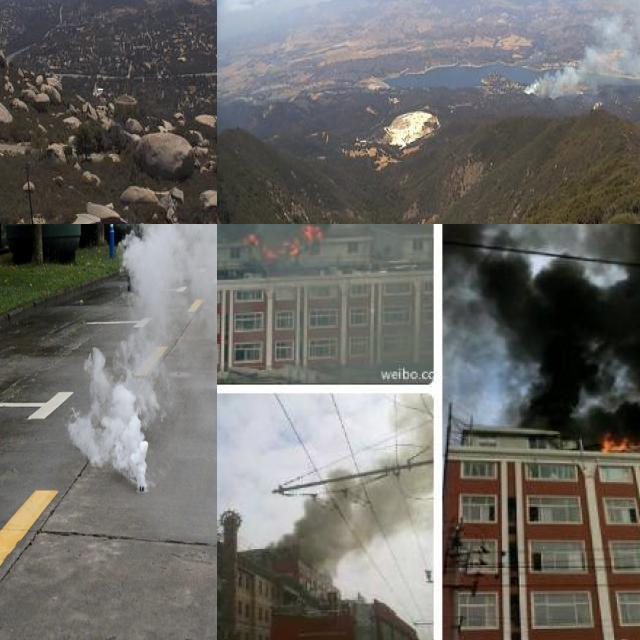fire: (240, 224, 326, 262), (600, 412, 640, 458)
smoke: (445, 224, 640, 450), (69, 224, 217, 490), (275, 395, 429, 572), (521, 0, 640, 102)
